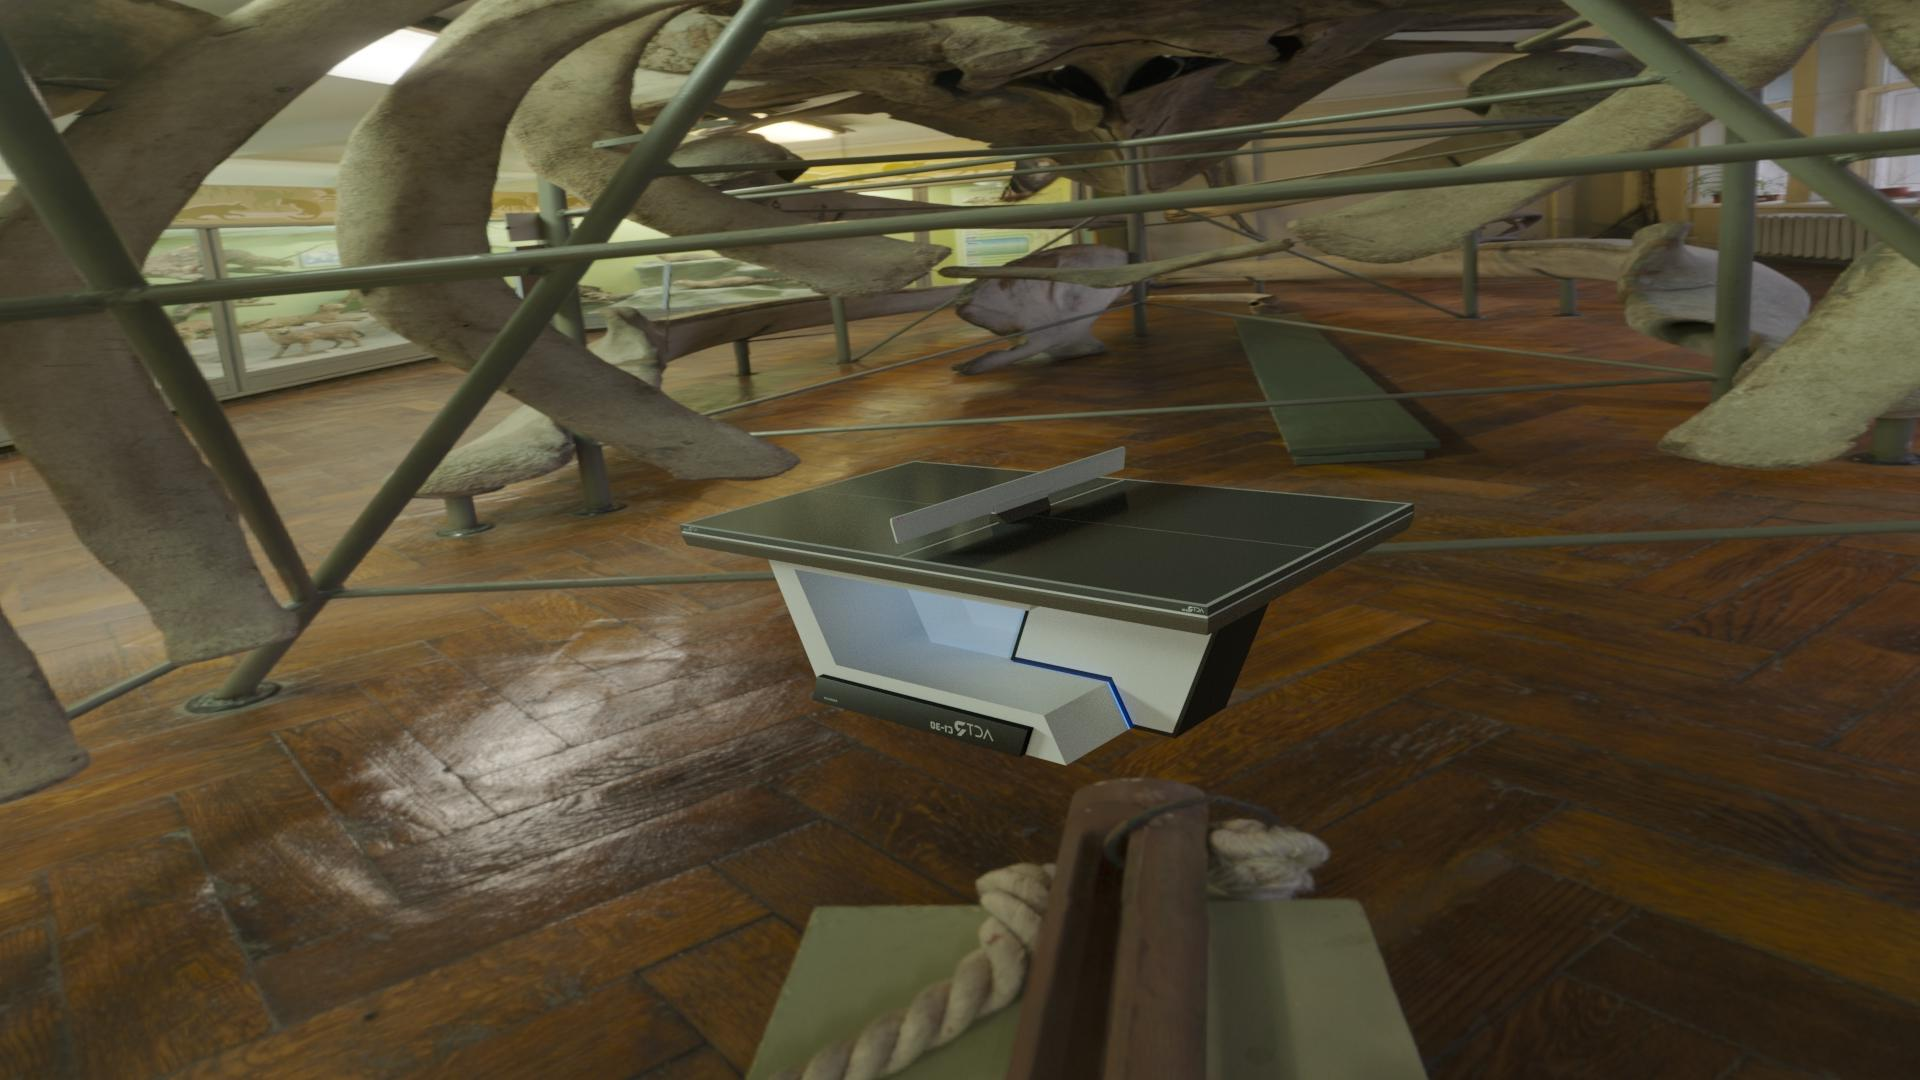table: (686, 462, 1407, 604)
